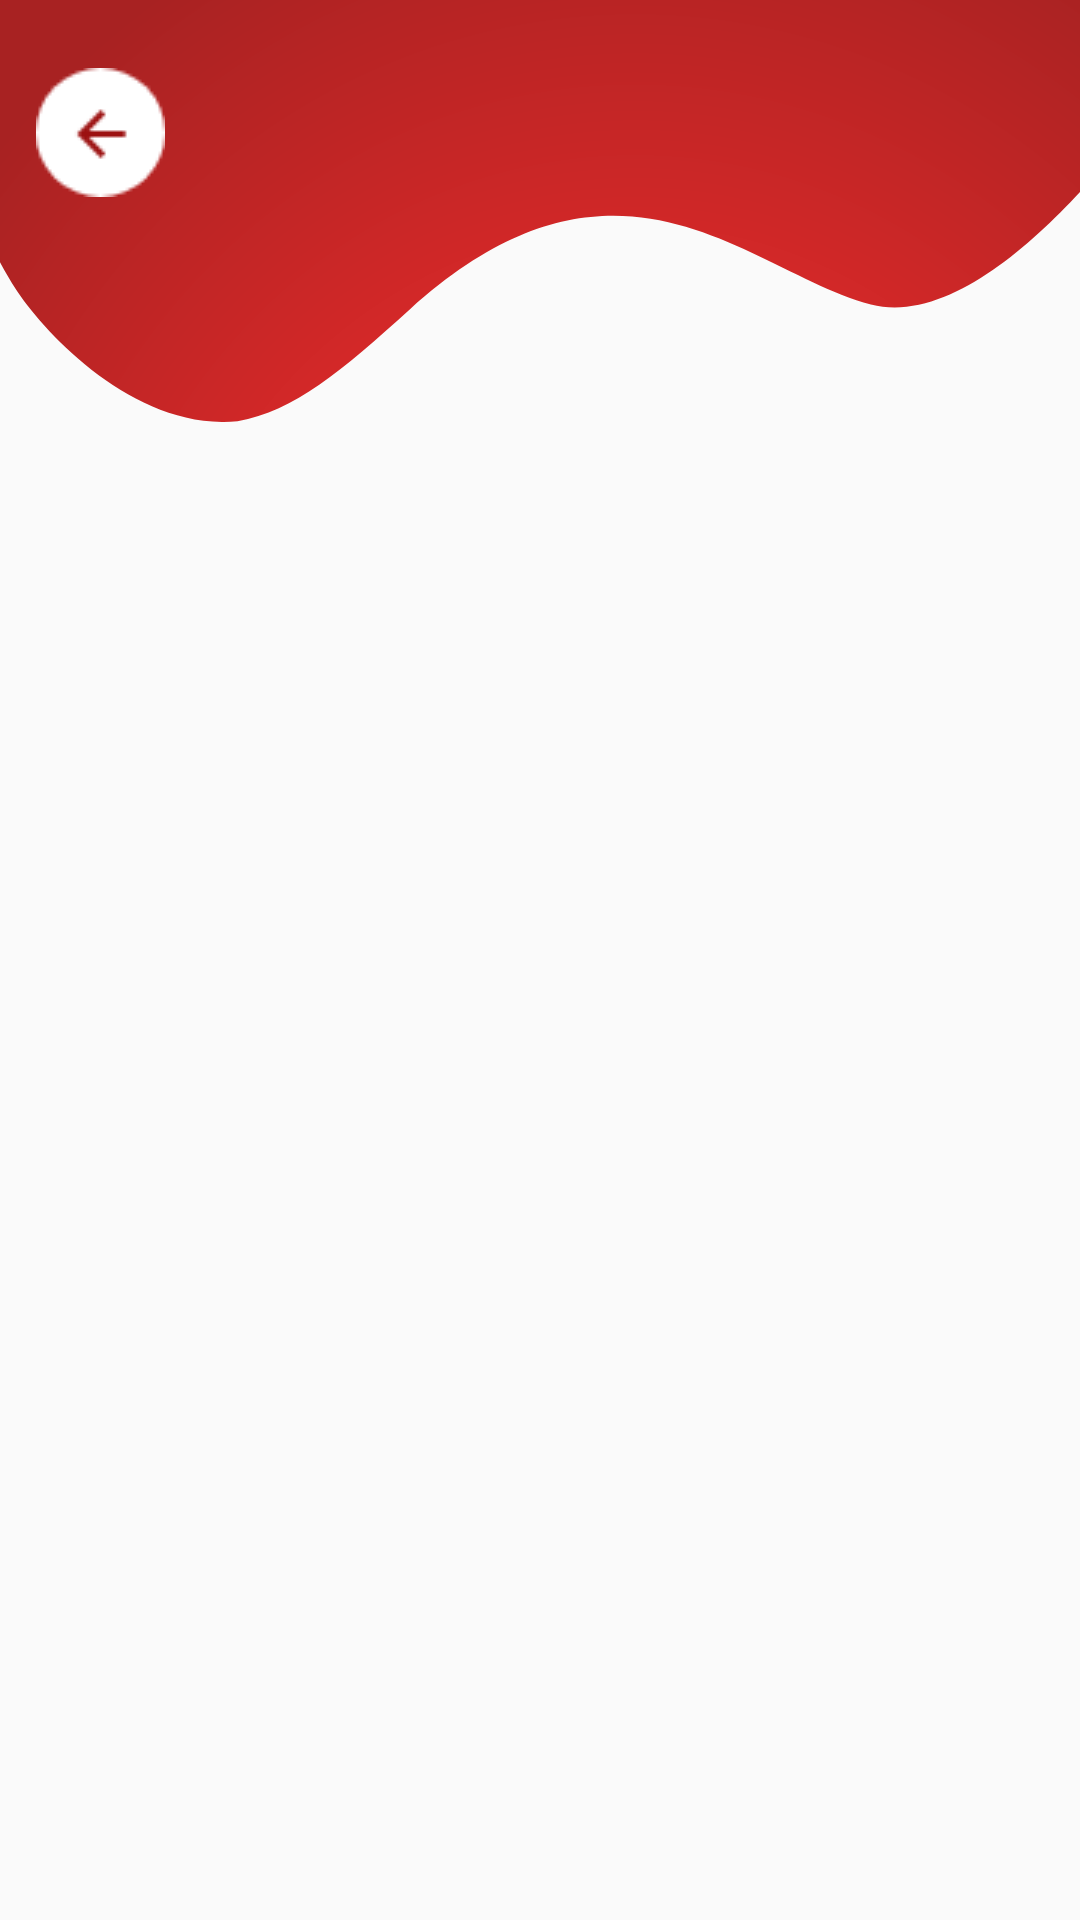

Icons on this 1080 × 1920 Android screen, each with its box as detection(x1, y1, x2, y2):
back oval: detection(36, 68, 165, 197)
